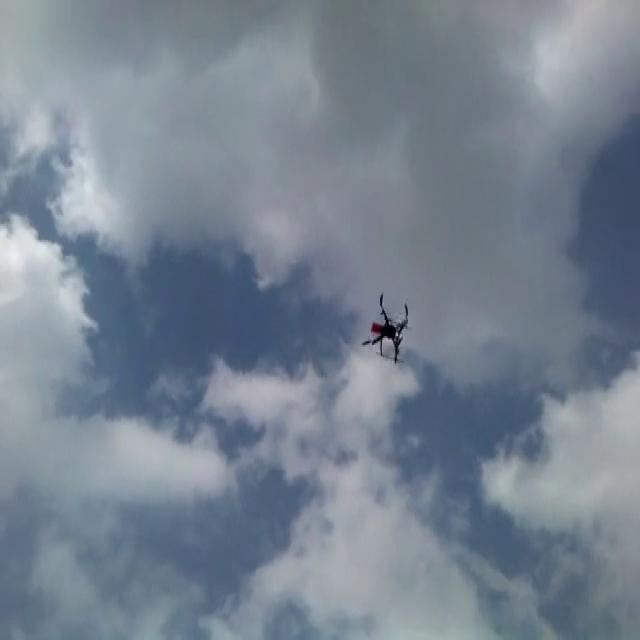drone: (360, 288, 410, 363)
